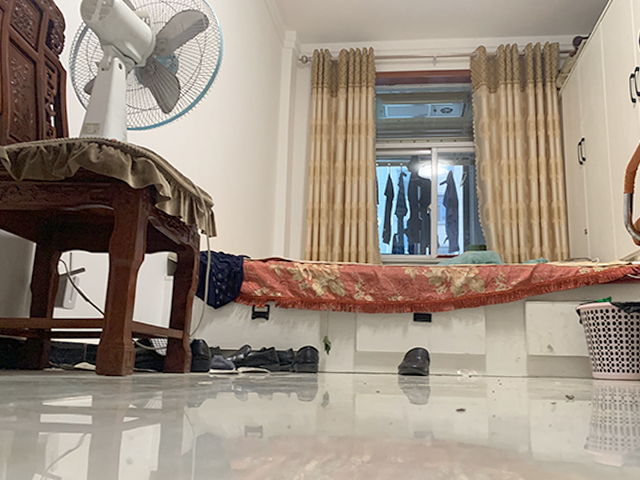bed: (189, 249, 640, 379)
curtain: (466, 40, 574, 262), (301, 45, 381, 266)
stool: (1, 1, 213, 376)
trashcan: (575, 301, 640, 382)
